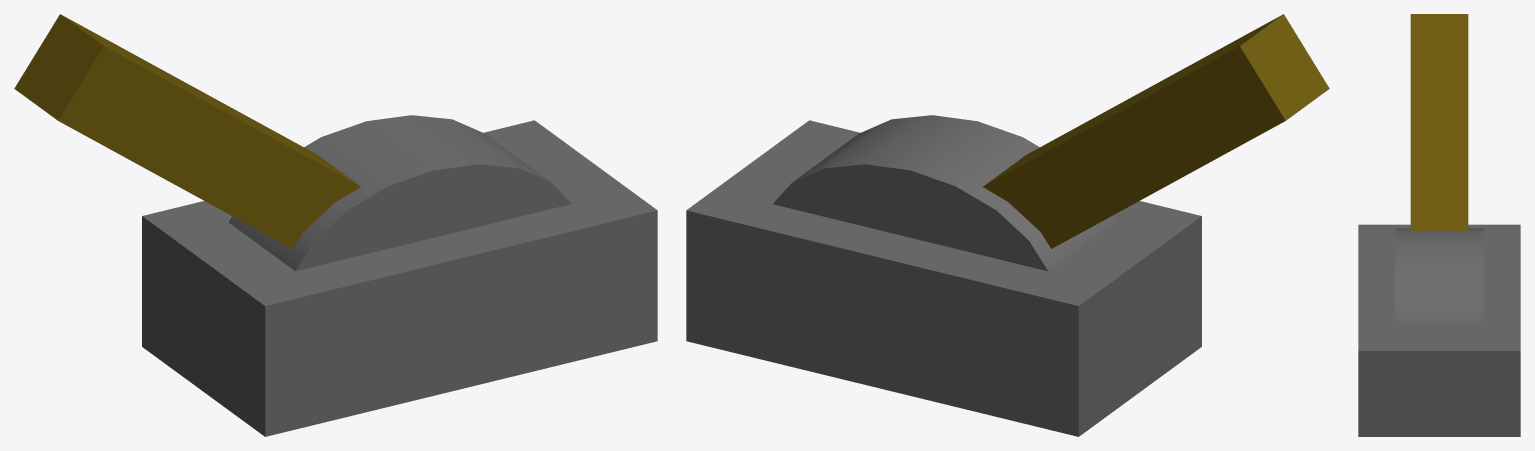
Rendered from Lever.fbx.
The picture shows the model from 3 angles, left to right: view 1: azimuth 30°, elevation 25°; view 2: azimuth 150°, elevation 25°; view 3: azimuth 270°, elevation 25°; orthographic projection. The views are drawn at different scales.
Parts seen in each view (by area): view 1: pCube1, pCube2, pCylinder1; view 2: pCube1, pCube2, pCylinder1; view 3: pCube1, pCube2, pCylinder1.
Boxes of the visible parts, bbox=[...] form: pCube1: bbox=[142, 120, 657, 436]; pCube2: bbox=[14, 14, 360, 248]; pCylinder1: bbox=[228, 115, 570, 271]; pCube1: bbox=[686, 120, 1201, 436]; pCube2: bbox=[983, 14, 1329, 248]; pCylinder1: bbox=[773, 115, 1115, 271]; pCube1: bbox=[1358, 224, 1520, 436]; pCube2: bbox=[1410, 14, 1468, 230]; pCylinder1: bbox=[1395, 228, 1483, 331].
Size of the model in its own units: 4.48 by 3 by 1.71.
